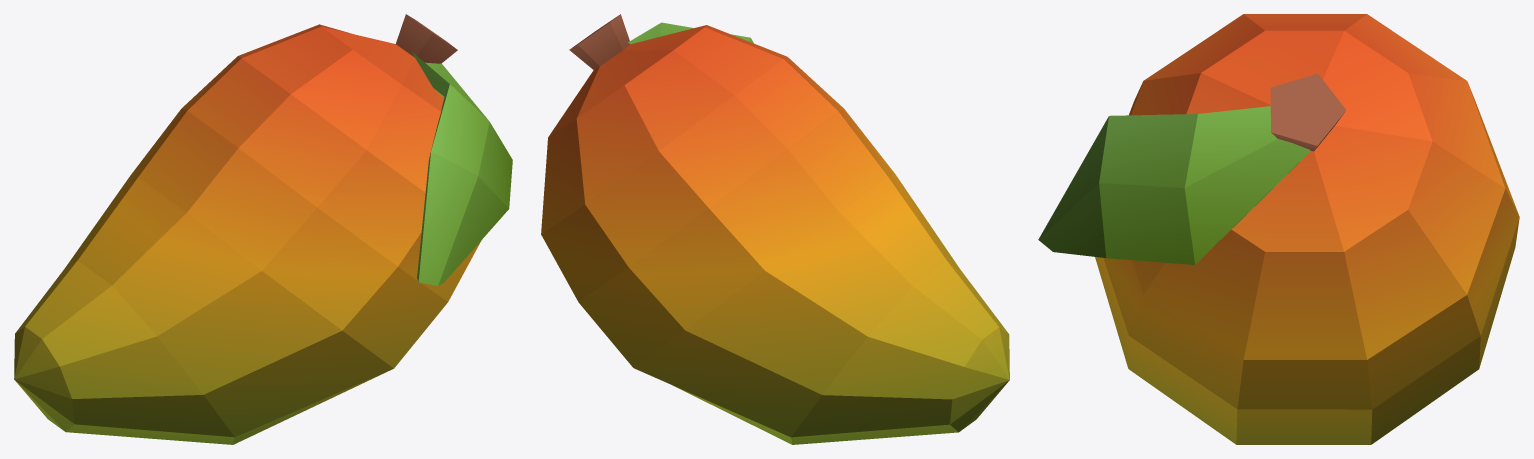
Rendered from Mango.fbx.
3 renders of one model, left to right at view 1: azimuth 30°, elevation 25°; view 2: azimuth 150°, elevation 25°; view 3: azimuth 270°, elevation 25°, orthographic. The views are drawn at different scales.
Parts seen in each view (by area): view 1: Mango; view 2: Mango; view 3: Mango.
Boxes of the visible parts, box(x1,y1,x2,y2) form: Mango: box(14, 14, 512, 444); Mango: box(541, 14, 1009, 444); Mango: box(1038, 14, 1519, 444).
Size of the model in its own units: 19.94 by 15.28 by 14.57.
